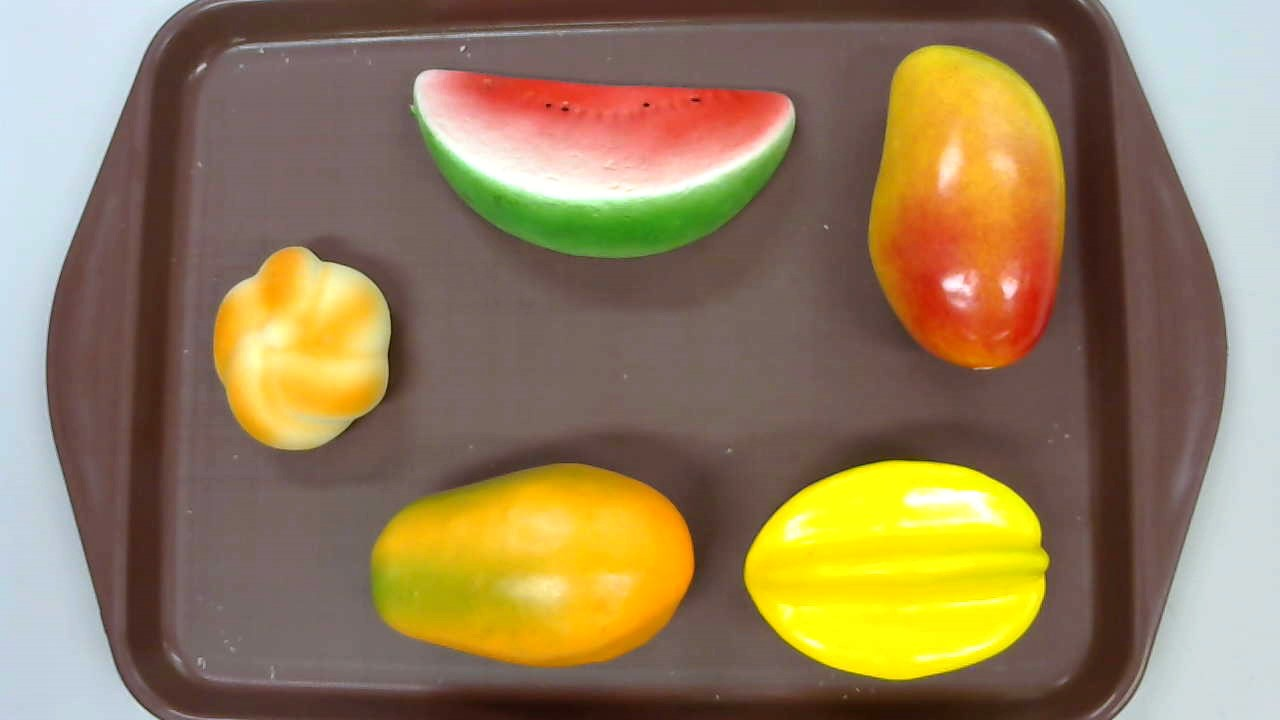papaya: (368, 463, 695, 668)
red mango: (866, 44, 1066, 369)
star fruit: (744, 459, 1050, 678)
twist bread: (212, 245, 391, 452)
watermelon: (408, 67, 795, 260)
